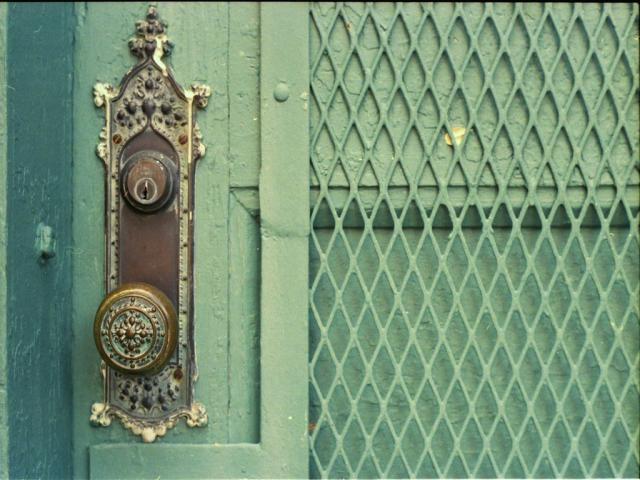Door-handle: (88, 5, 212, 443)
